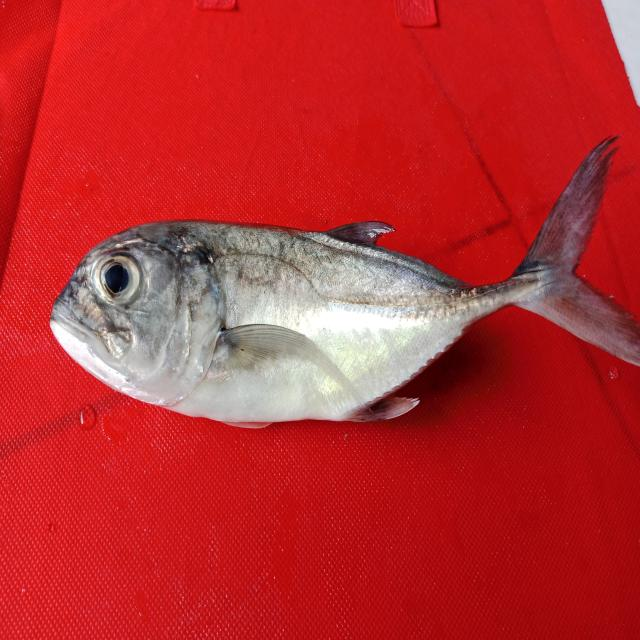ikan: (48, 133, 639, 429)
